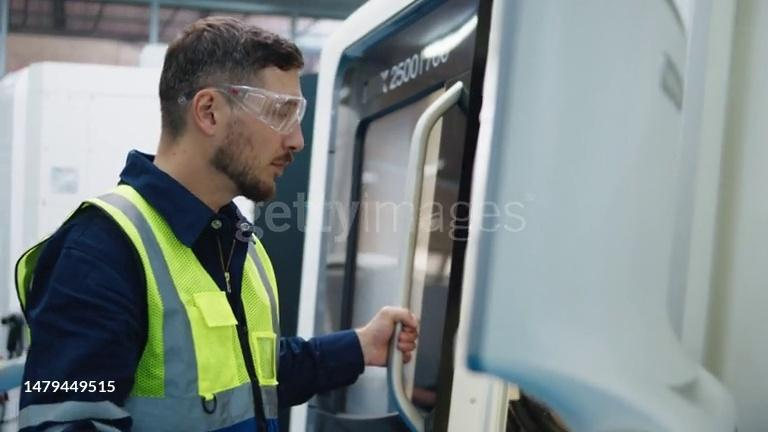person: (15, 16, 419, 432)
